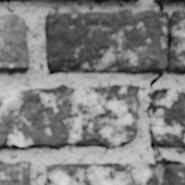brick: (0, 85, 139, 149), (152, 89, 184, 146), (0, 14, 28, 71), (0, 161, 30, 184), (154, 0, 184, 2), (91, 0, 108, 2), (0, 0, 24, 1)
broken_brick: (44, 8, 167, 75), (43, 161, 184, 184), (166, 10, 184, 74)
crack: (146, 2, 184, 182)
